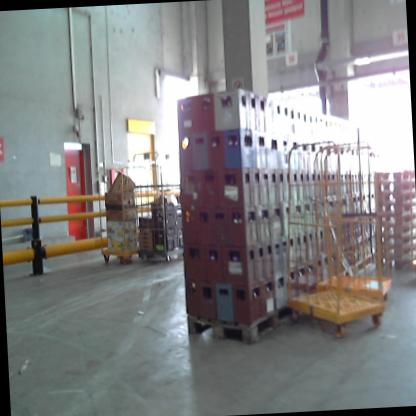pallet: (180, 297, 305, 348), (372, 225, 416, 246), (374, 246, 416, 268), (372, 188, 415, 206), (373, 209, 415, 226), (370, 167, 414, 183), (372, 177, 415, 193), (373, 199, 416, 213), (371, 241, 416, 254), (373, 222, 416, 233)
